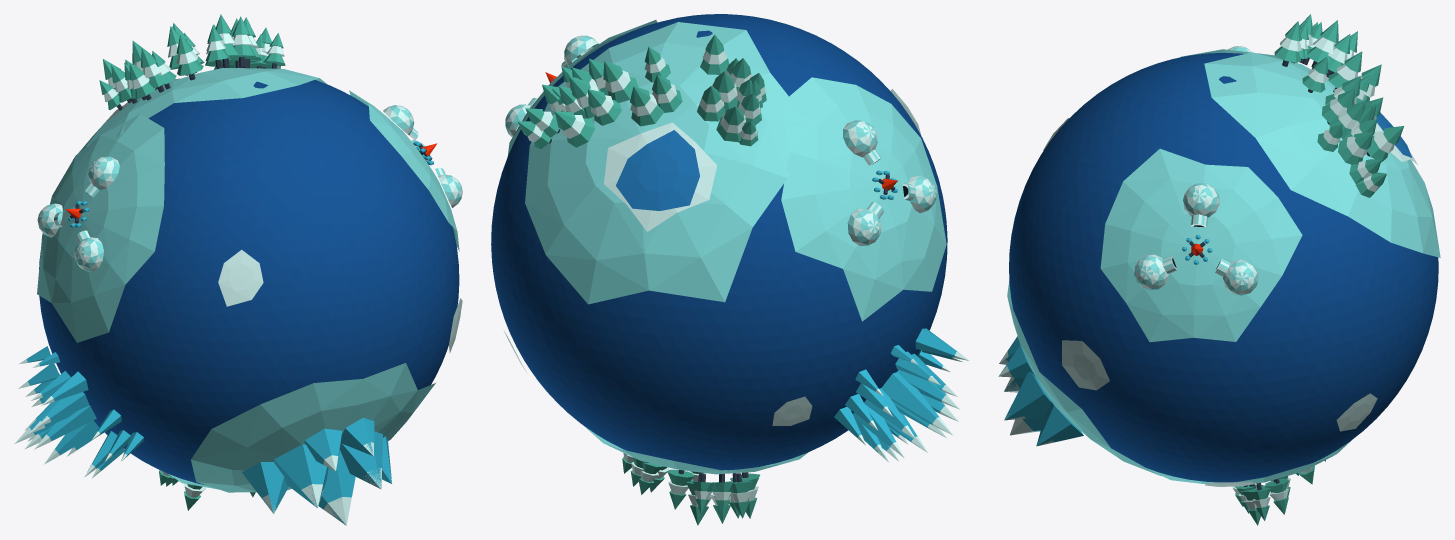
File: Hielo.obj
The picture shows the model from 3 angles, left to right: view 1: azimuth 30°, elevation 25°; view 2: azimuth 150°, elevation 25°; view 3: azimuth 270°, elevation 25°; orthographic projection. The views are drawn at different scales.
Visible parts, largest first — view 1: Planeta_Hielo; view 2: Planeta_Hielo; view 3: Planeta_Hielo.
Boxes of the visible parts, left/top/right/bottom form: Planeta_Hielo: left=14, top=14, right=462, bottom=525; Planeta_Hielo: left=491, top=14, right=969, bottom=525; Planeta_Hielo: left=998, top=14, right=1440, bottom=525.
Bounding box in the file's own units: 11.31 × 12.02 × 10.29.
